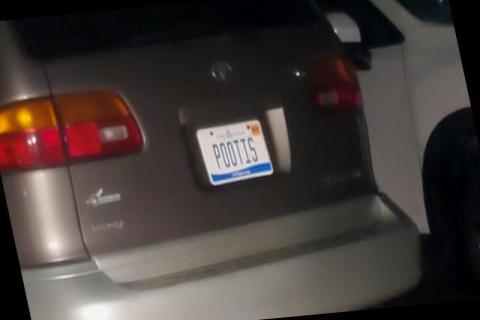LicensePlate: (194, 118, 273, 185)
